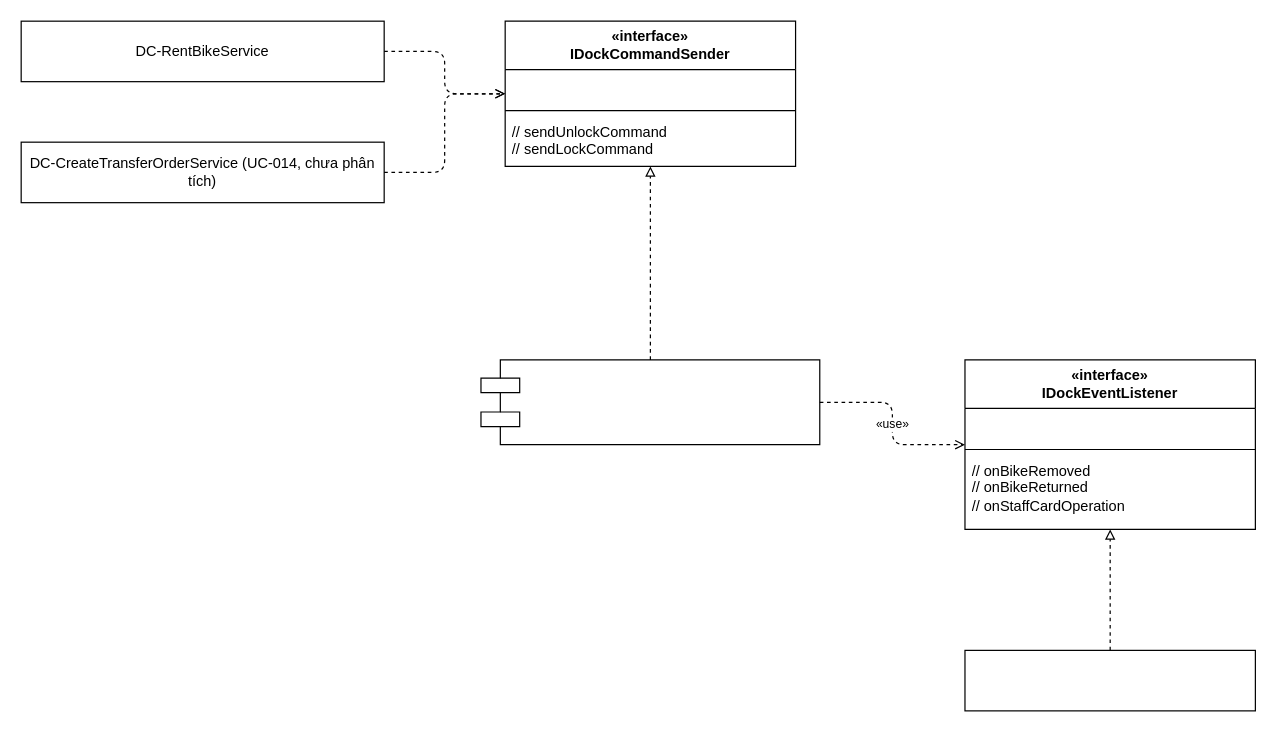
Image size: 1277x732. Some labels were removed from this diagram. Here are the shapes that lost their labels. From the top down, the centre of each, then its label:
point (650, 402): «subsystem» DockCommunicationSubsystem
point (1109, 680): DC-DockEventHandler
